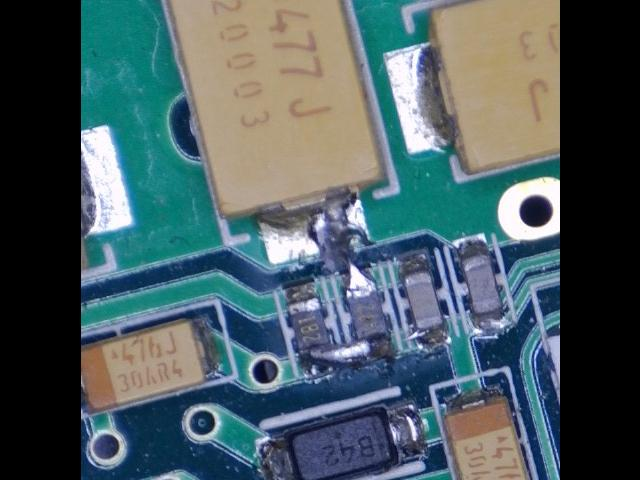Short_circuit: (257, 194, 378, 303), (299, 323, 396, 380)
